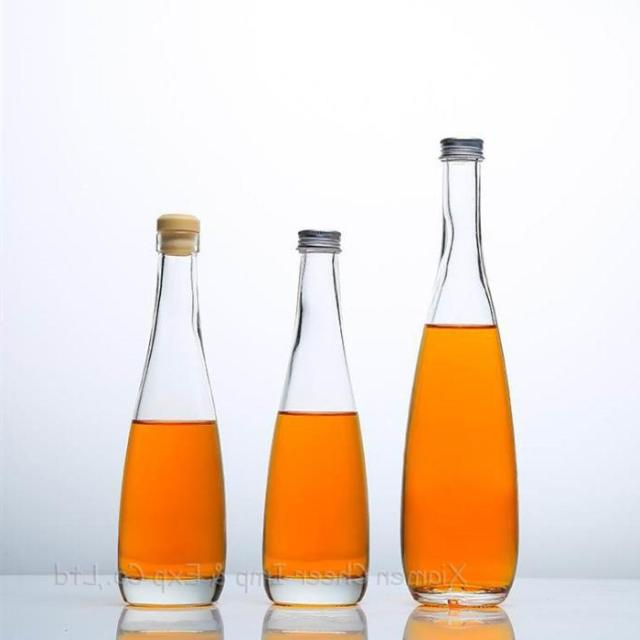glass: (399, 135, 524, 611), (114, 213, 228, 607), (264, 227, 369, 610)
